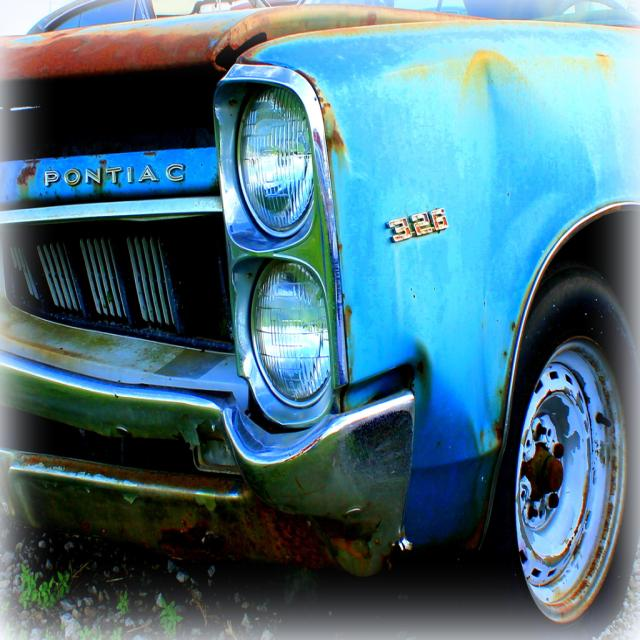car: (0, 15, 624, 624)
